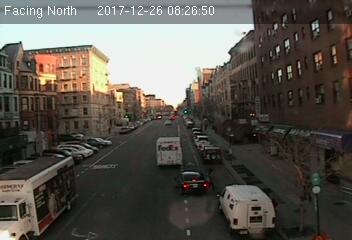car: (176, 172, 206, 194), (203, 146, 222, 162)
truck: (1, 157, 79, 240), (216, 181, 274, 235), (156, 136, 183, 168)
